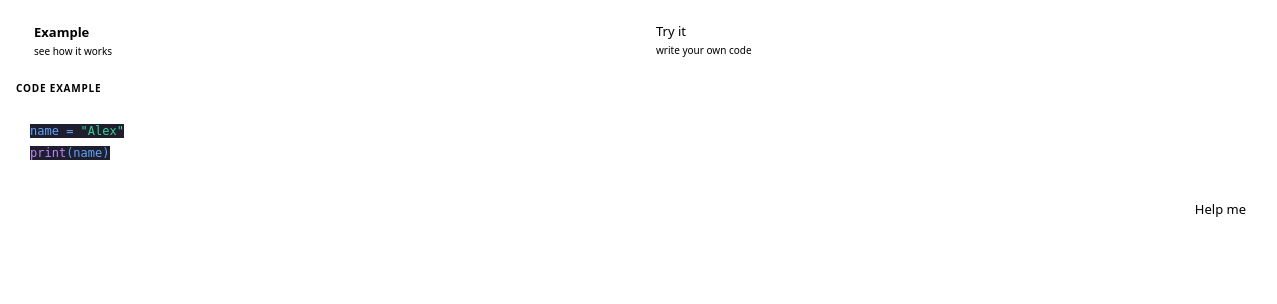
Scenario: RightColumn — tab rendering and switching › switches to Try it panel when tab is clicked
Step 1. Click the tab "Try it write your own code" → (671, 31), box [638,12,1260,68]
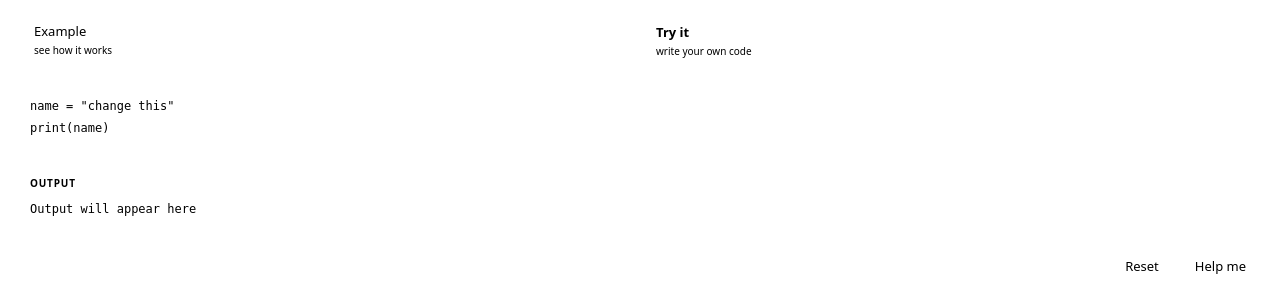
Now the panel named "try it" is shown
